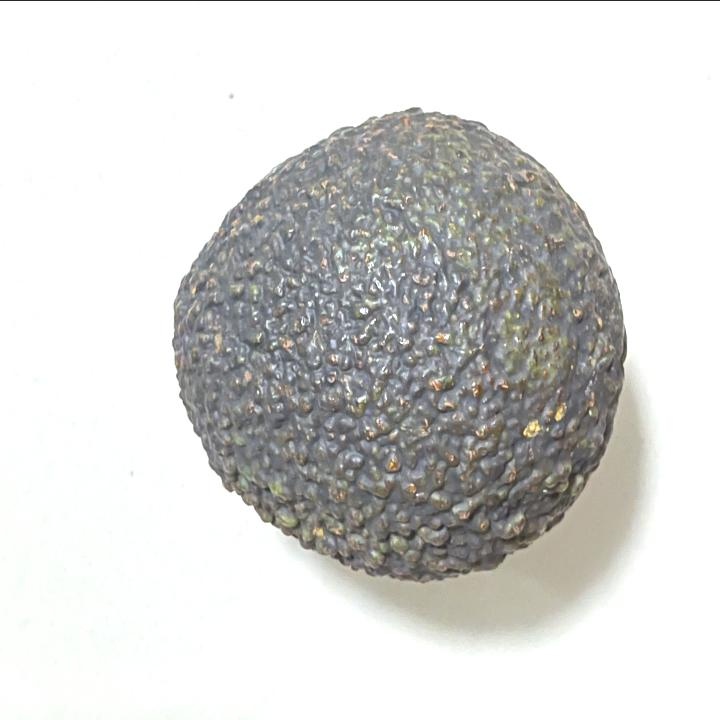Level2: (166, 98, 630, 586)
